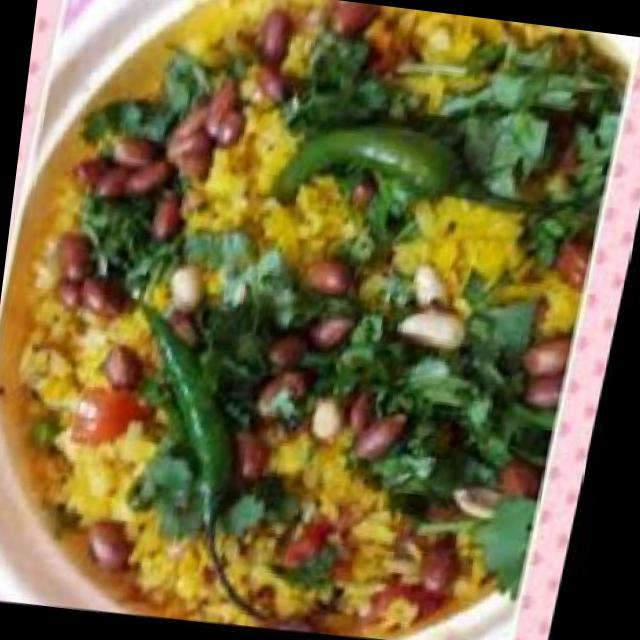poha: (0, 0, 635, 640)
